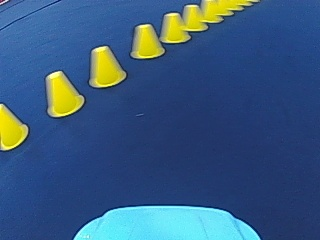cone: (44, 70, 82, 116), (87, 44, 126, 87), (0, 103, 28, 148), (130, 22, 164, 59), (159, 12, 188, 43), (180, 4, 205, 31), (200, 0, 222, 22)
